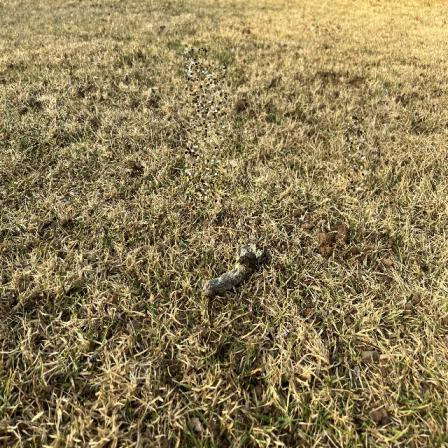dog-poop: (193, 235, 268, 297)
